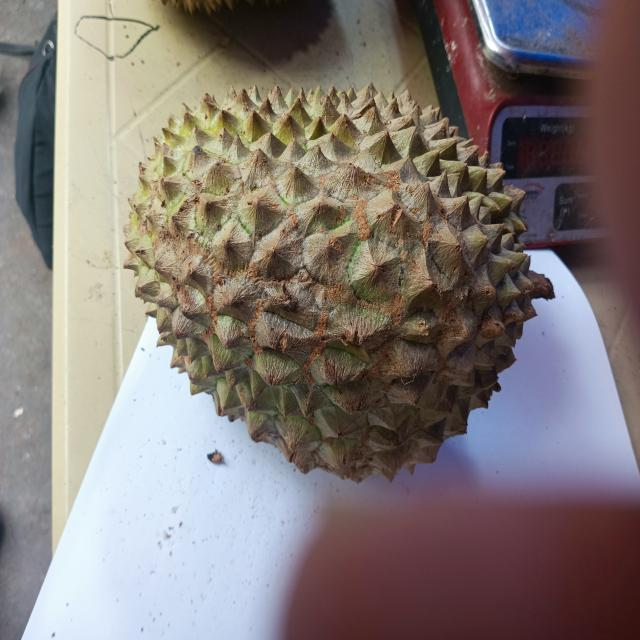mature: (125, 84, 535, 481)
